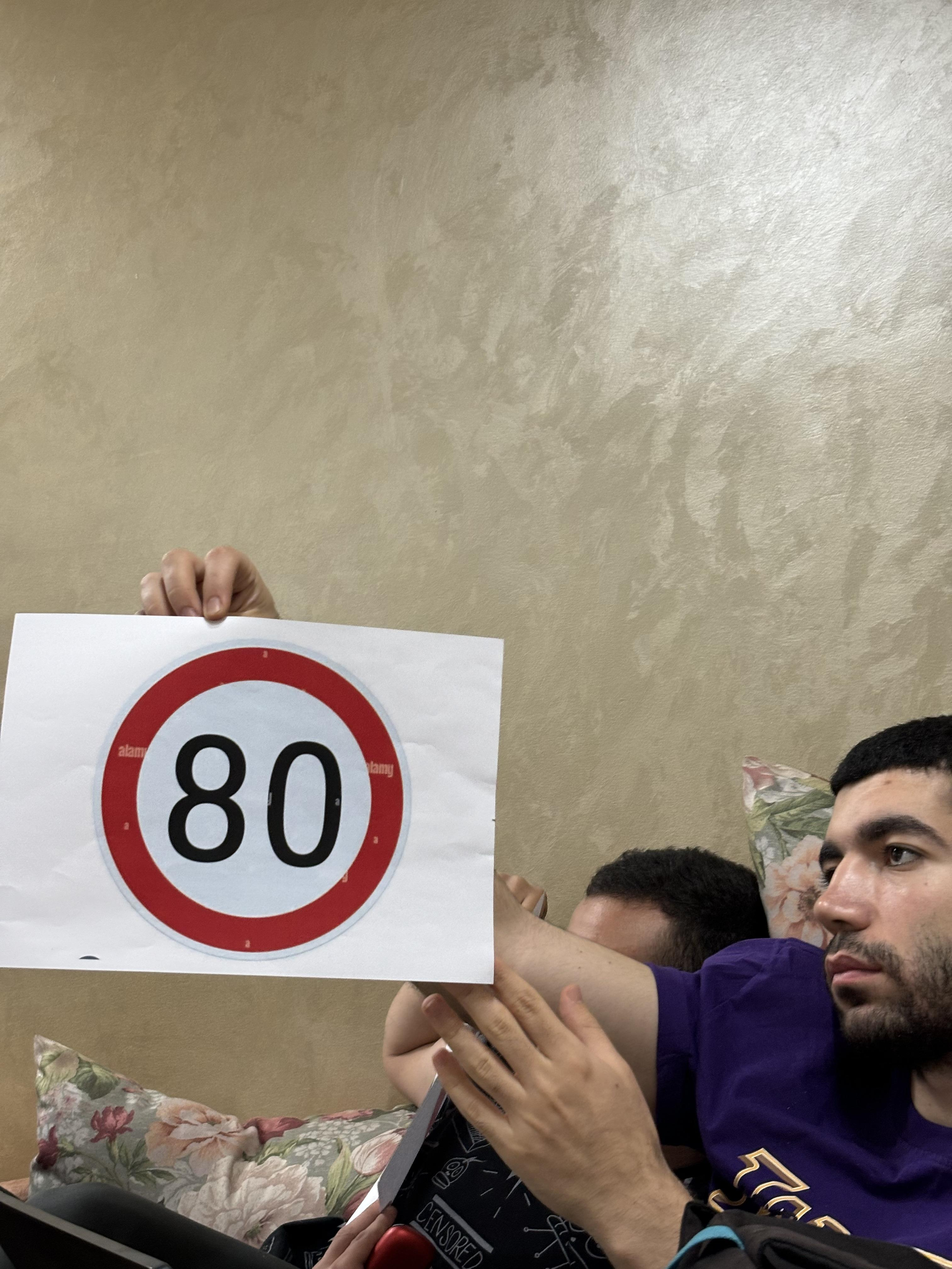80-Speed: (95, 640, 415, 953)
